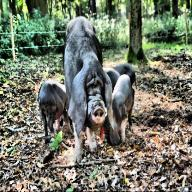boar: (37, 15, 137, 164)
